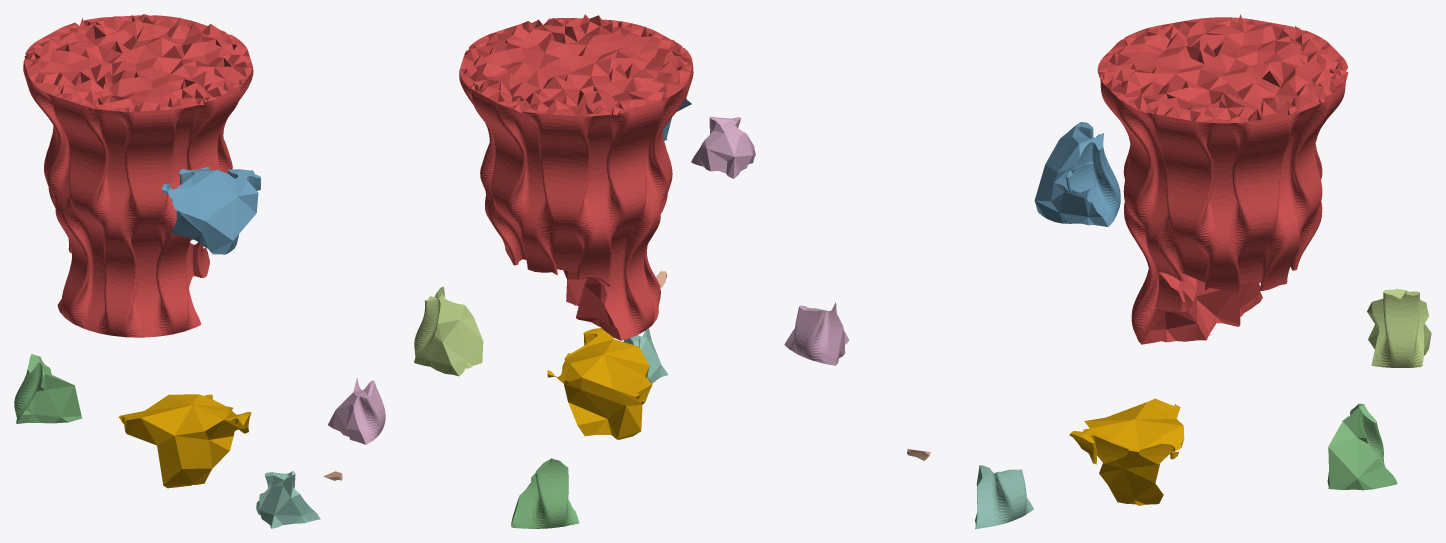
Rendered from fractured_3_8pcs_transformed.glb.
3 views of the same model, side by side, from view 1: azimuth 30°, elevation 25°; view 2: azimuth 150°, elevation 25°; view 3: azimuth 270°, elevation 25° (orthographic). The views are drawn at different scales.
Visible parts, largest first — view 1: piece_1.obj, piece_0.obj, piece_2.obj, piece_3.obj, piece_6.obj, piece_4.obj; view 2: piece_1.obj, piece_0.obj, piece_5.obj, piece_3.obj, piece_6.obj, piece_4.obj; view 3: piece_1.obj, piece_0.obj, piece_2.obj, piece_5.obj, piece_3.obj, piece_4.obj, piece_6.obj.
Boxes of the visible parts, bbox=[...] form: piece_1.obj: bbox=[23, 14, 253, 337]; piece_0.obj: bbox=[119, 394, 251, 488]; piece_2.obj: bbox=[161, 167, 260, 254]; piece_3.obj: bbox=[14, 354, 82, 423]; piece_6.obj: bbox=[328, 377, 385, 444]; piece_4.obj: bbox=[256, 471, 320, 528]; piece_1.obj: bbox=[459, 14, 693, 340]; piece_0.obj: bbox=[547, 328, 652, 439]; piece_5.obj: bbox=[414, 286, 483, 376]; piece_3.obj: bbox=[511, 458, 579, 528]; piece_6.obj: bbox=[691, 116, 755, 178]; piece_4.obj: bbox=[623, 328, 668, 383]; piece_1.obj: bbox=[1097, 14, 1348, 344]; piece_0.obj: bbox=[1069, 398, 1184, 505]; piece_2.obj: bbox=[1034, 122, 1120, 226]; piece_5.obj: bbox=[1367, 288, 1431, 367]; piece_3.obj: bbox=[1327, 403, 1397, 490]; piece_4.obj: bbox=[975, 465, 1033, 528]; piece_6.obj: bbox=[784, 302, 849, 365].
Bounding box in the file's own units: 0.842 × 1.6 × 2.17.
